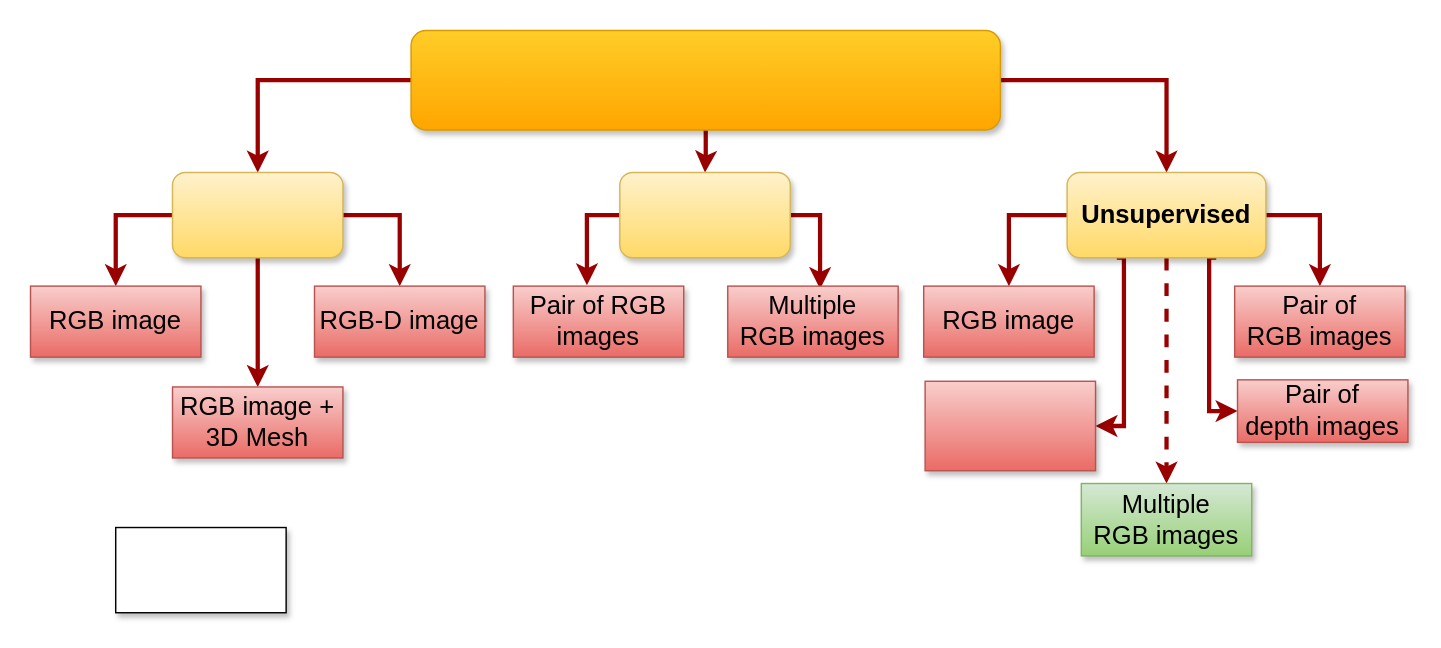
Image size: 1441x648. Some labels were removed from this diagram. The shapes that lost their labels are listed below. From the top down, each one's centre as x and y in pixels, then its label:
At (x=706, y=81): "Keypoint Detection".
At (x=258, y=216): "Supervised".
At (x=706, y=216): "Weak-Supervised".
At (x=1011, y=427): "Pair of RGB images + depth".
